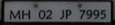character: (8, 9, 20, 20), (21, 9, 30, 20), (64, 8, 71, 20), (37, 9, 45, 19), (78, 8, 85, 19), (85, 8, 92, 19), (92, 8, 99, 19), (99, 8, 106, 19), (58, 7, 64, 19), (45, 9, 52, 19)
